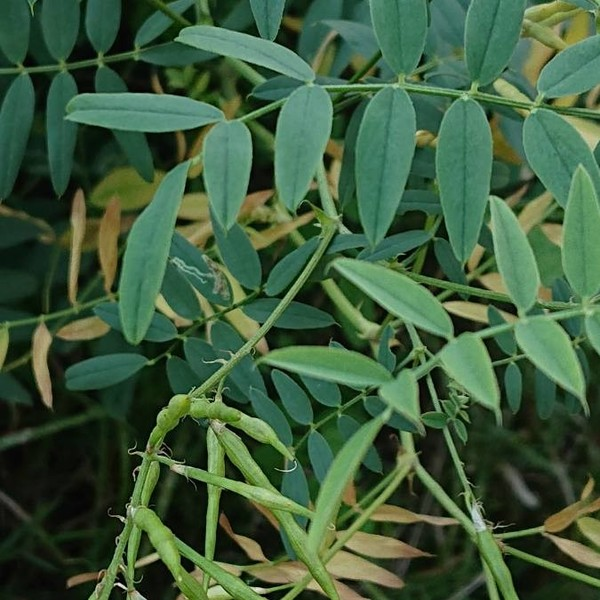obstacle: (102, 50, 571, 535)
